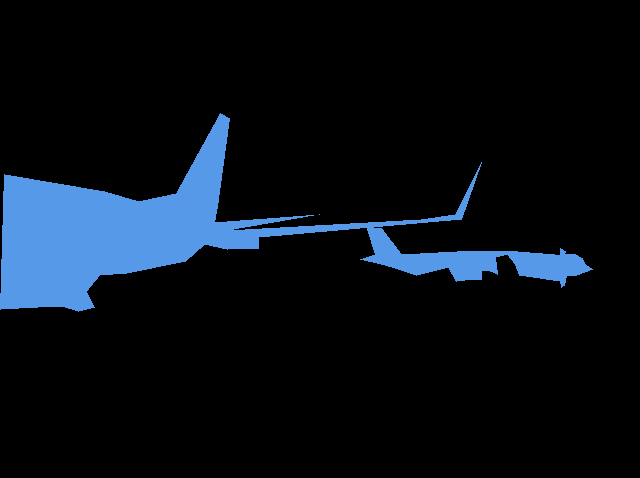Airplane: (0, 113, 481, 312), (360, 226, 592, 287)
